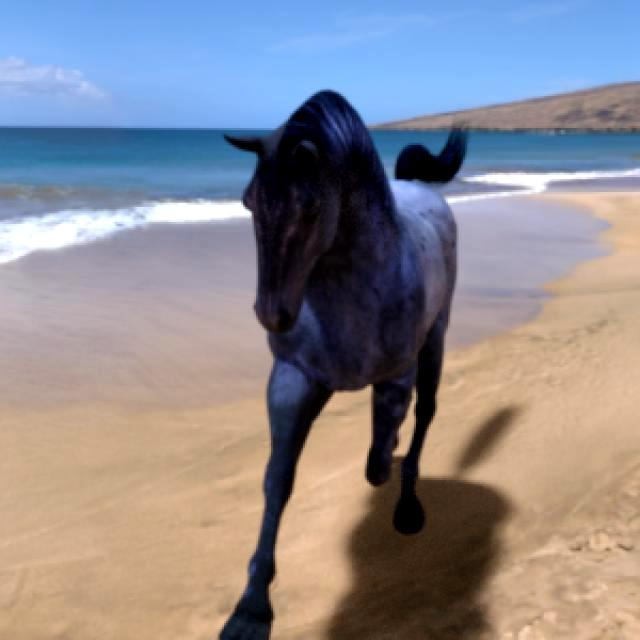horse: (220, 91, 465, 639)
